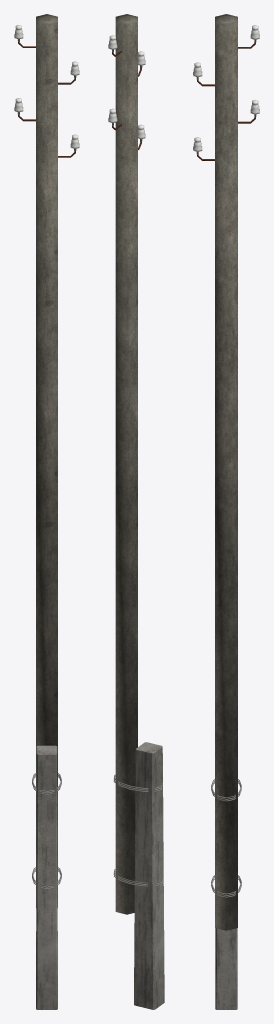
Rendered from pole_wood_lod2_web.glb.
3 views of the same model, side by side, from view 1: azimuth 90°, elevation 25°; view 2: azimuth 150°, elevation 25°; view 3: azimuth 270°, elevation 25° (orthographic). The views are drawn at different scales.
Visible parts, largest first — view 1: PoleWood_Mesh; view 2: PoleWood_Mesh; view 3: PoleWood_Mesh.
Part boxes in pixels (left/top/right/bottom): PoleWood_Mesh: left=14, top=14, right=79, bottom=1009; PoleWood_Mesh: left=108, top=14, right=164, bottom=1009; PoleWood_Mesh: left=193, top=14, right=259, bottom=1009.
Size of the model in its own units: 0.4474 by 8.8 by 0.5345.
Materials: 5 (4 with a texture image).
